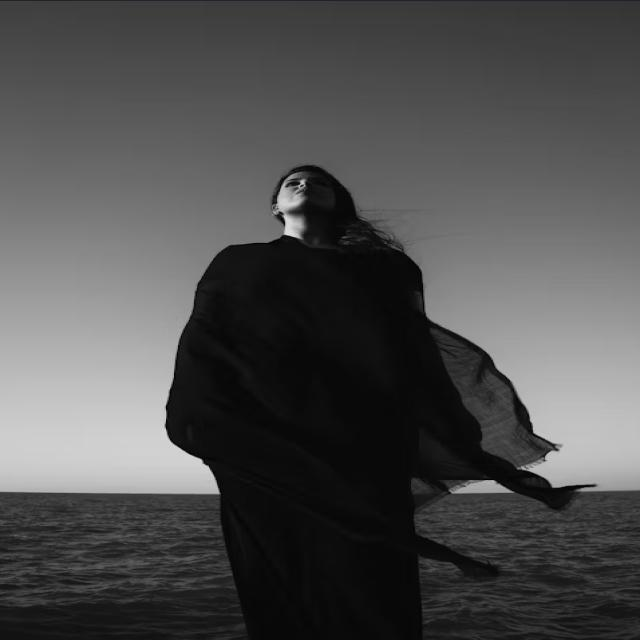Edited images: (135, 147, 580, 632)
